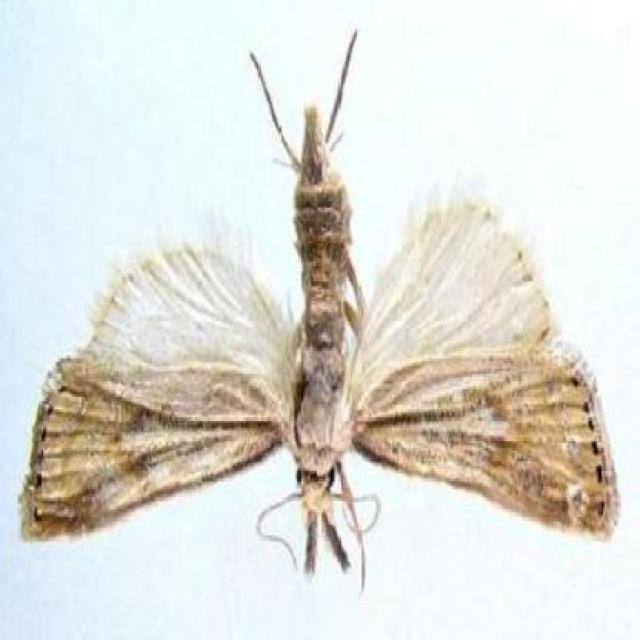stem-borer: (19, 26, 623, 586)
